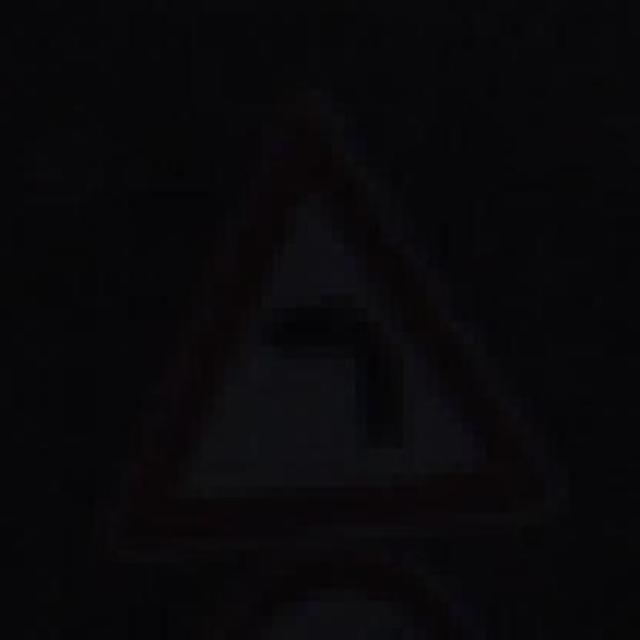Dangerous Left Curve Ahead: (94, 102, 546, 538)
